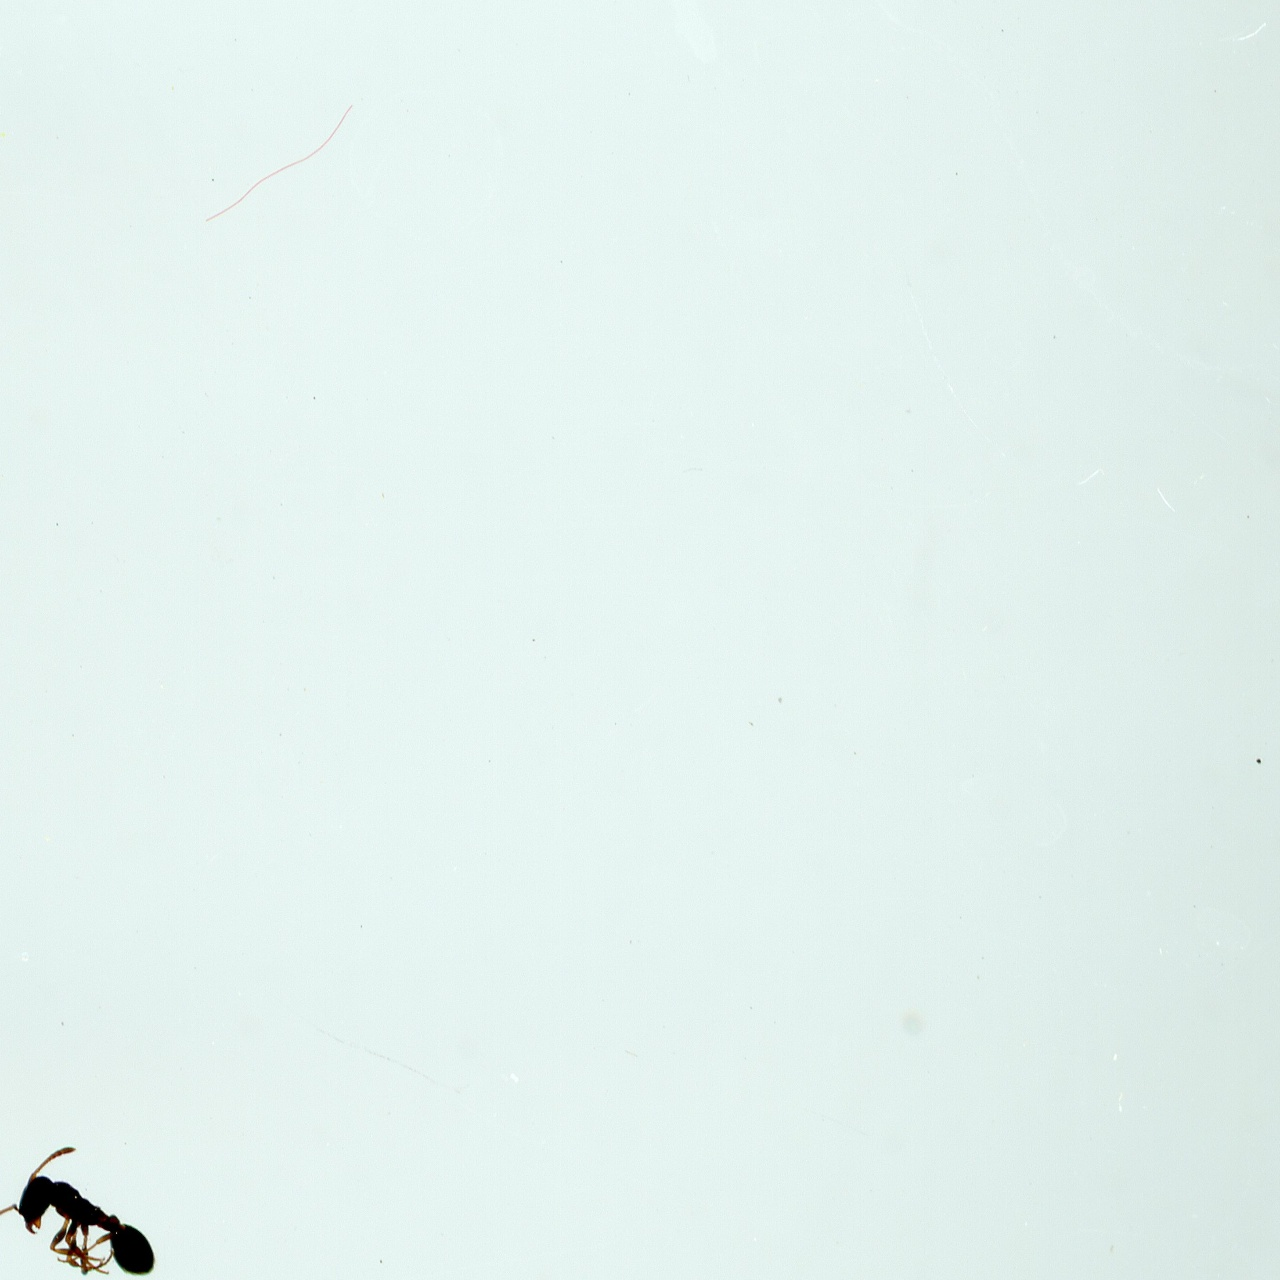arthropod: (0, 1117, 203, 1280)
